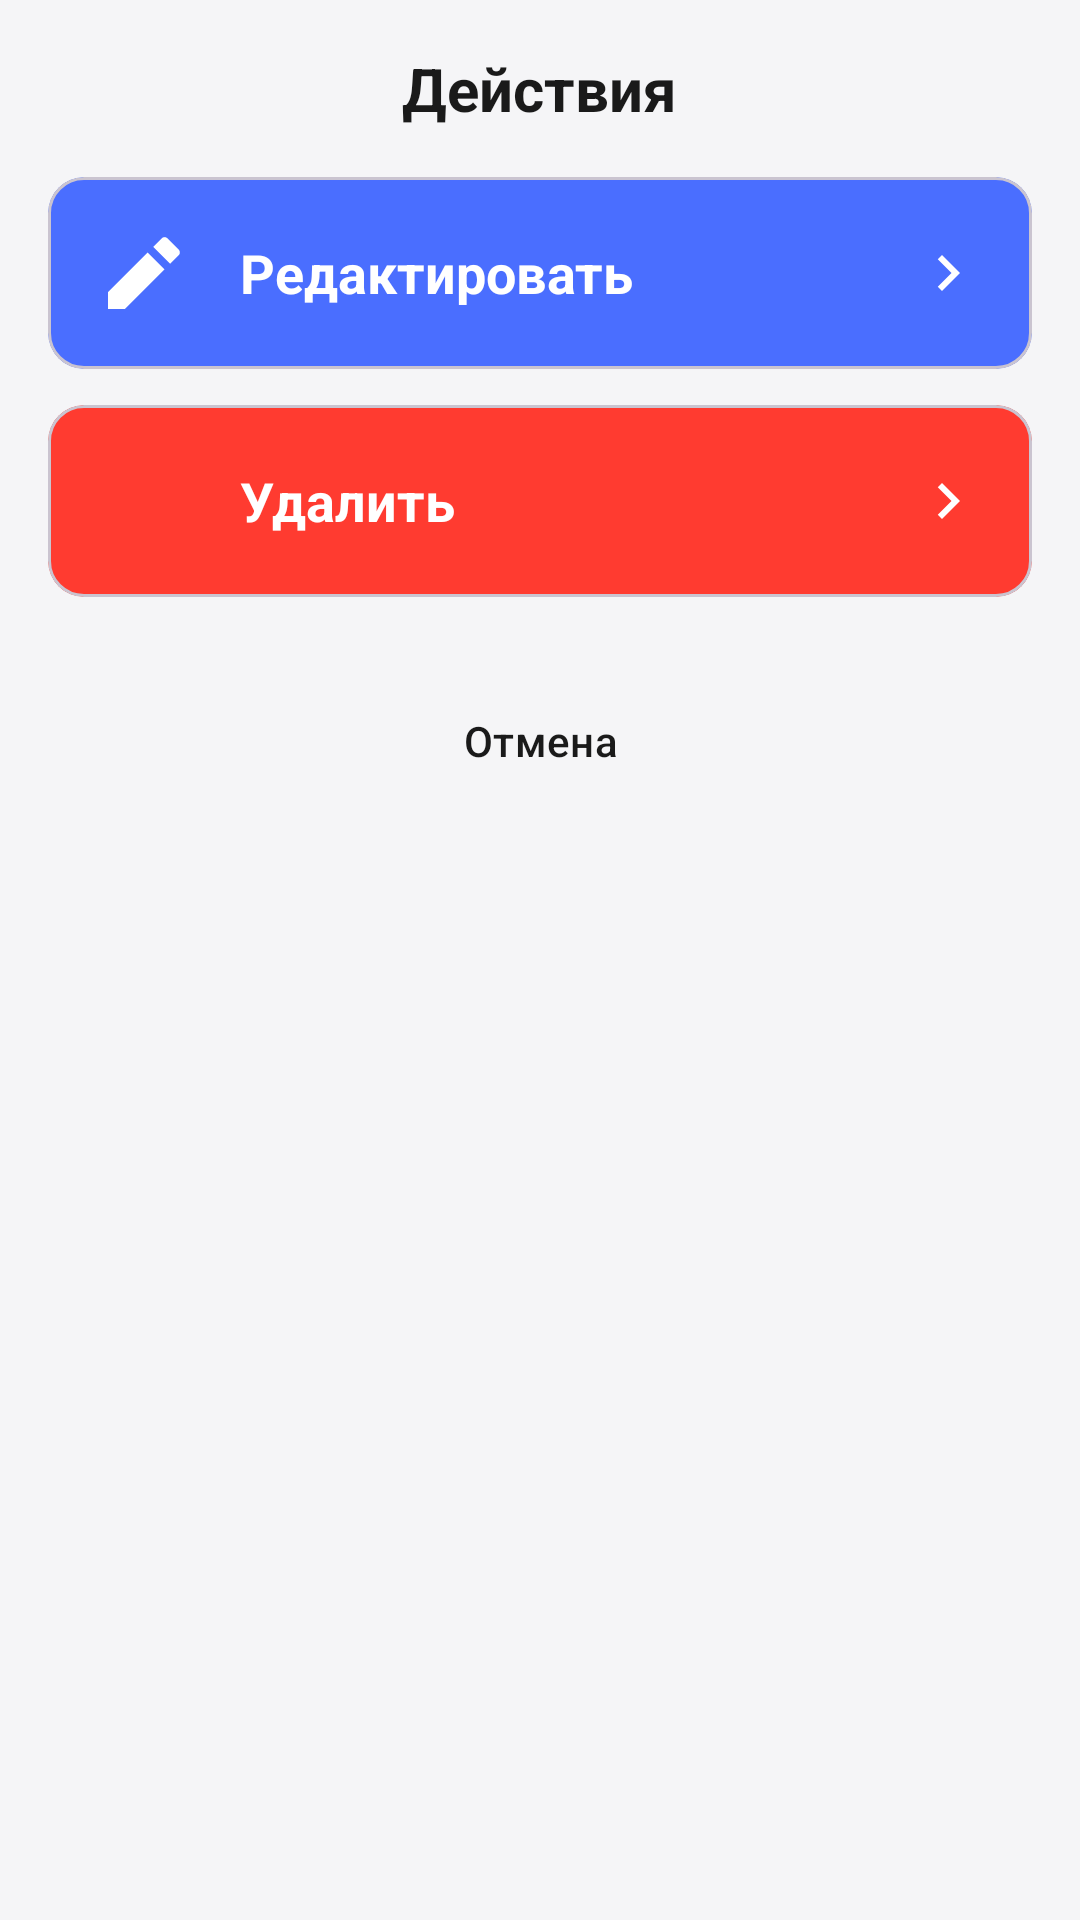

Where icons sit on this 1080px x 1920px app screen, as [x1, y1, x2, y2]:
chevron right: [938, 255, 960, 291], [938, 483, 960, 519]
